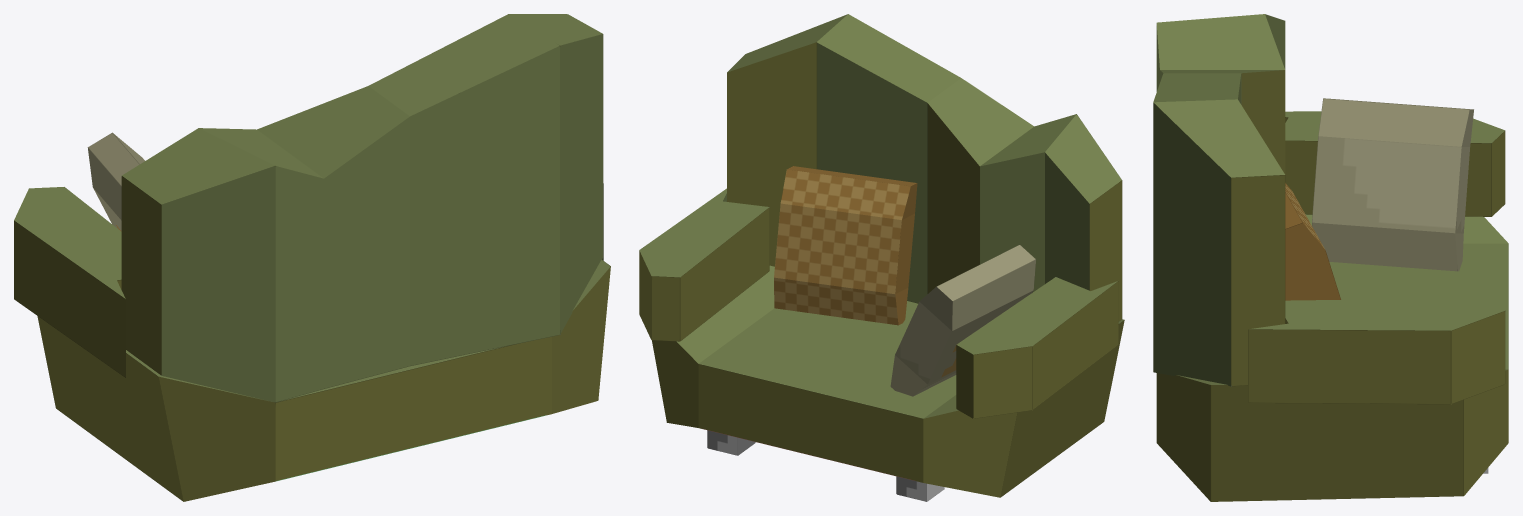
The model's file is couch.fbx.
3 views of the same model, side by side, from view 1: azimuth 30°, elevation 25°; view 2: azimuth 150°, elevation 25°; view 3: azimuth 270°, elevation 25° (orthographic). The views are drawn at different scales.
Parts seen in each view (by area): view 1: cuboid; view 2: cuboid; view 3: cuboid.
Part boxes in pixels (x1,y1,x2,y2): cuboid: [14, 14, 610, 501]; cuboid: [639, 14, 1124, 501]; cuboid: [1153, 14, 1508, 501].
Bounding box in the file's own units: 285 × 226 × 195.
